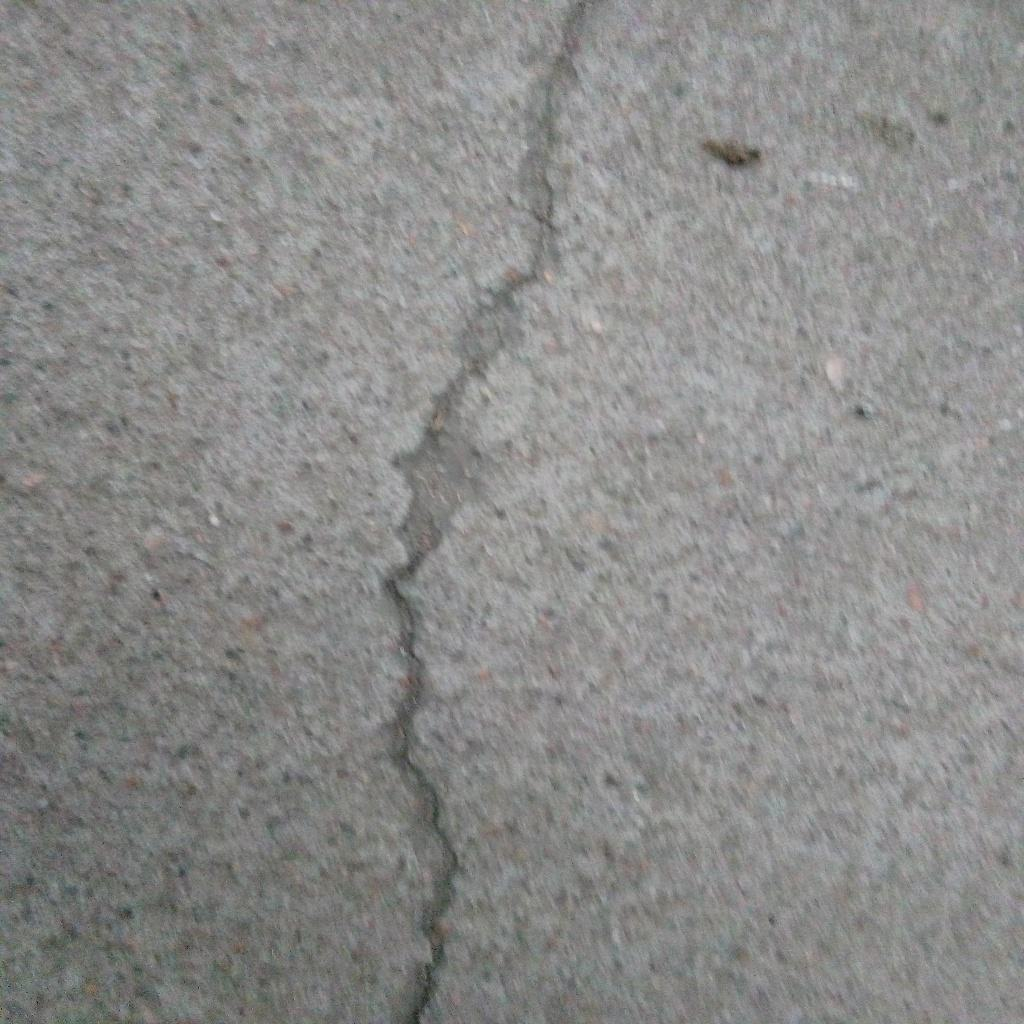Crack: (379, 1, 589, 1024)
